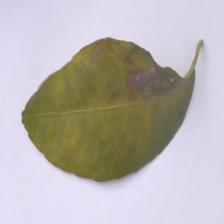black spot: (131, 35, 186, 142)
